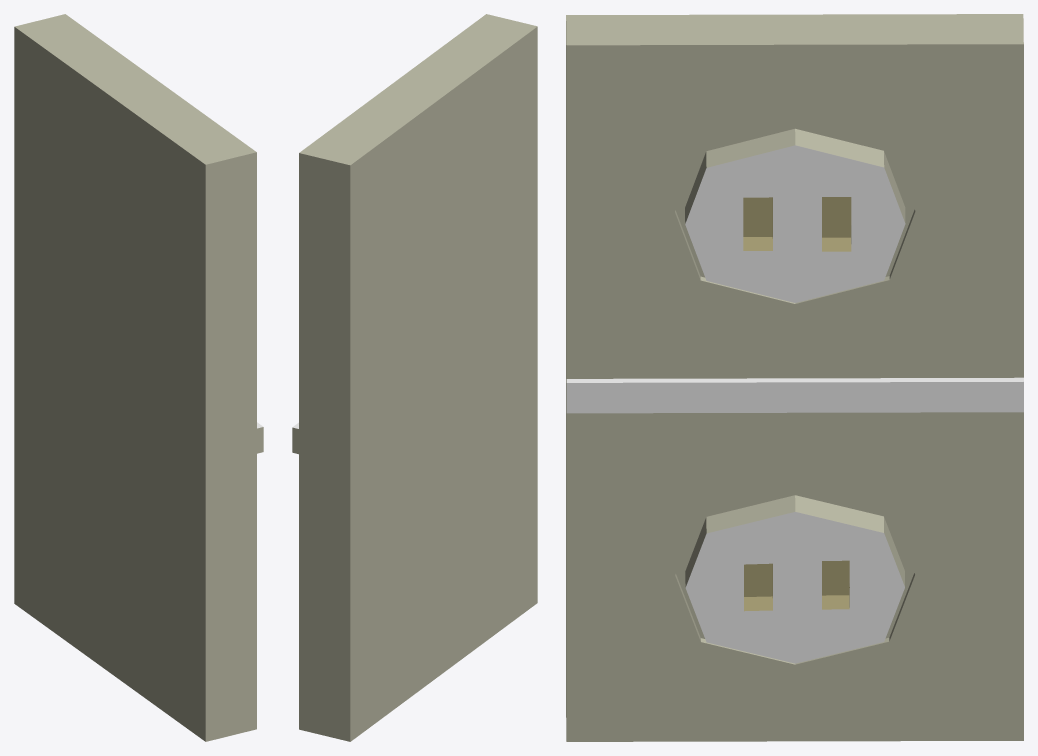
Rendered from outletworking.fbx.
3 views of the same model, side by side, from view 1: azimuth 30°, elevation 25°; view 2: azimuth 150°, elevation 25°; view 3: azimuth 270°, elevation 25° (orthographic). The views are drawn at different scales.
Parts seen in each view (by area): view 1: outletw; view 2: outletw; view 3: outletw.
Boxes of the visible parts, left/top/right/bottom form: outletw: left=14, top=14, right=263, bottom=741; outletw: left=292, top=14, right=537, bottom=741; outletw: left=566, top=14, right=1023, bottom=741.
Size of the model in its own units: 19.74 by 147 by 87.43.
